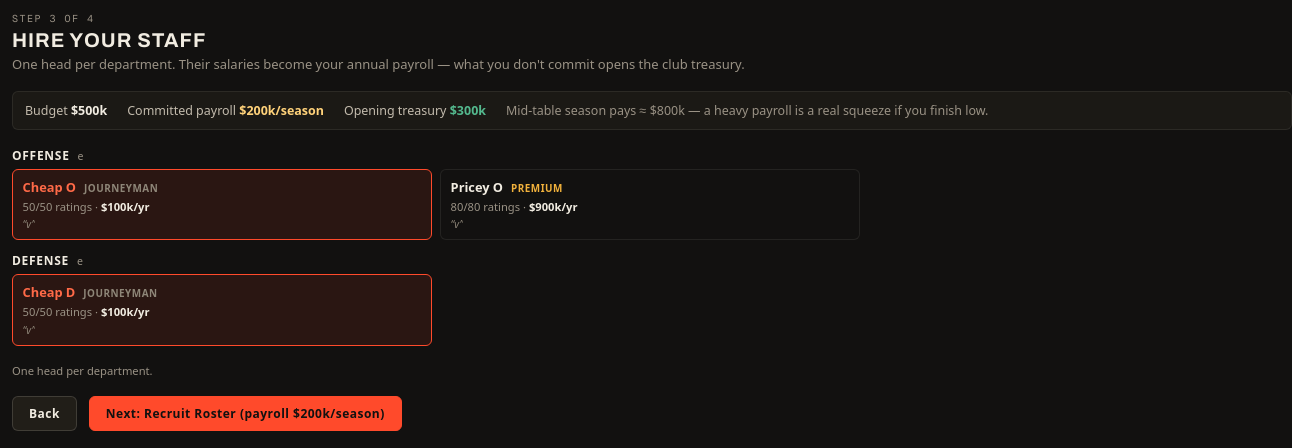
Scenario: StaffHiringStep (audit #77 seed continuity, #78 no soft-lock) › #78: selecting an over-budget candidate blocks Next with the cheapen-a-hire label
This screenshot has width=1292, height=448.
Expected: the element with test id "staff-budget-bar" is shown, [12, 91, 1291, 130]
Click the radio button with test id "staff-candidate-card" that starts with "Pricey O" at (477, 187), box [440, 169, 860, 240]
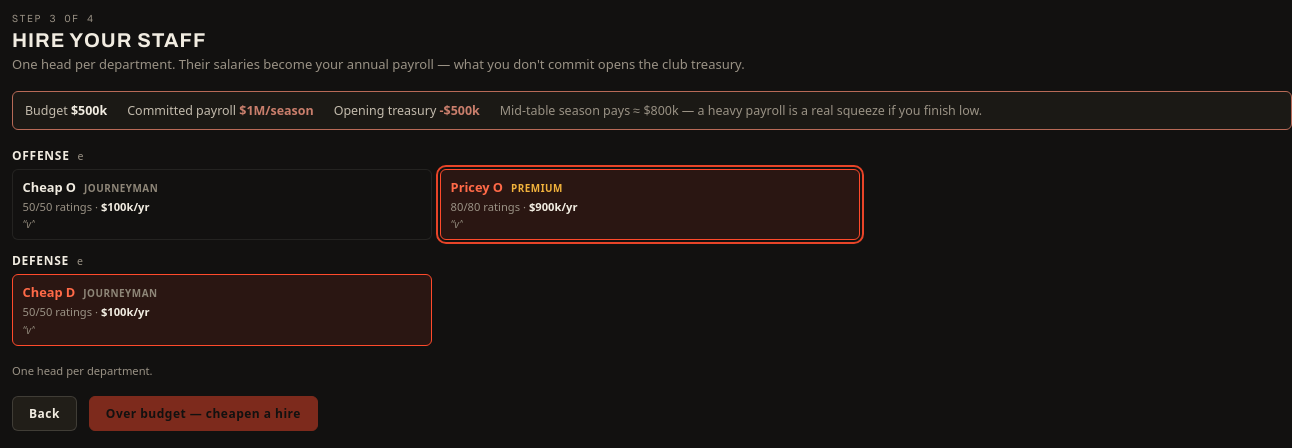
Expected: the button "Over budget — cheapen a hire" is disabled, [89, 396, 318, 431]
